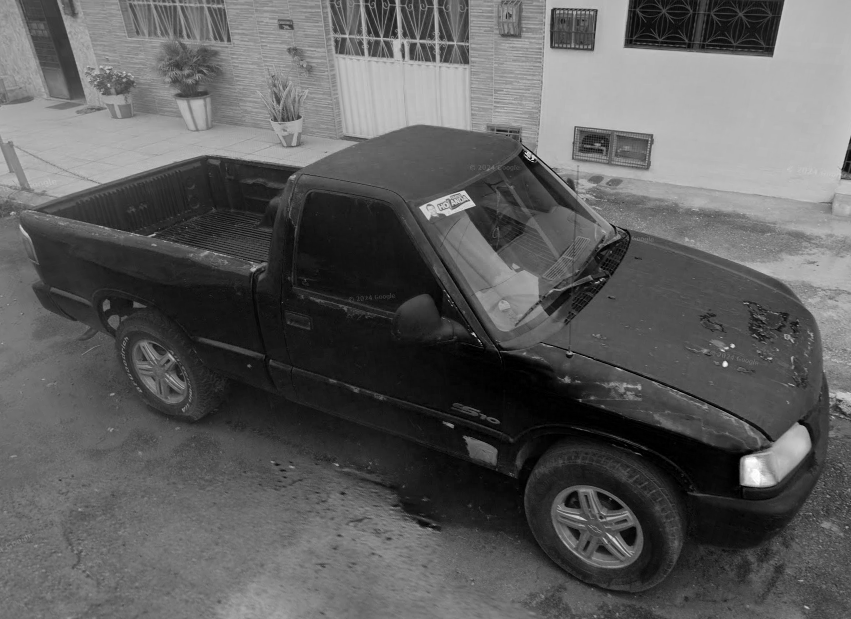car: (31, 131, 826, 587)
